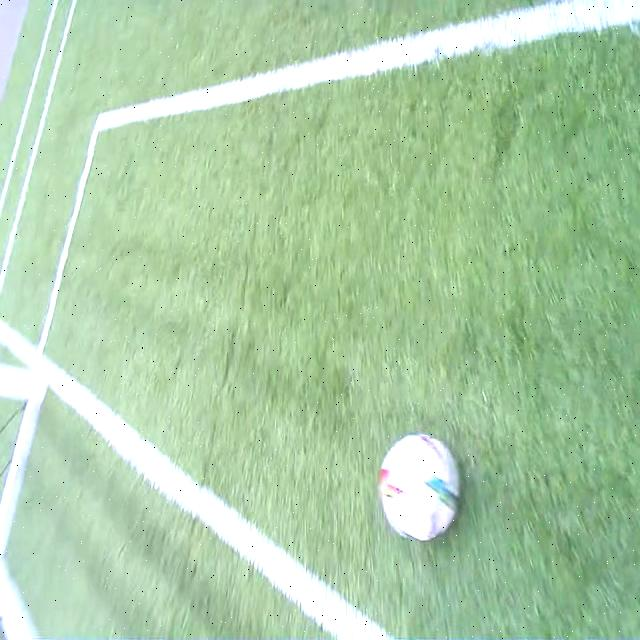ball: (380, 430, 460, 540)
